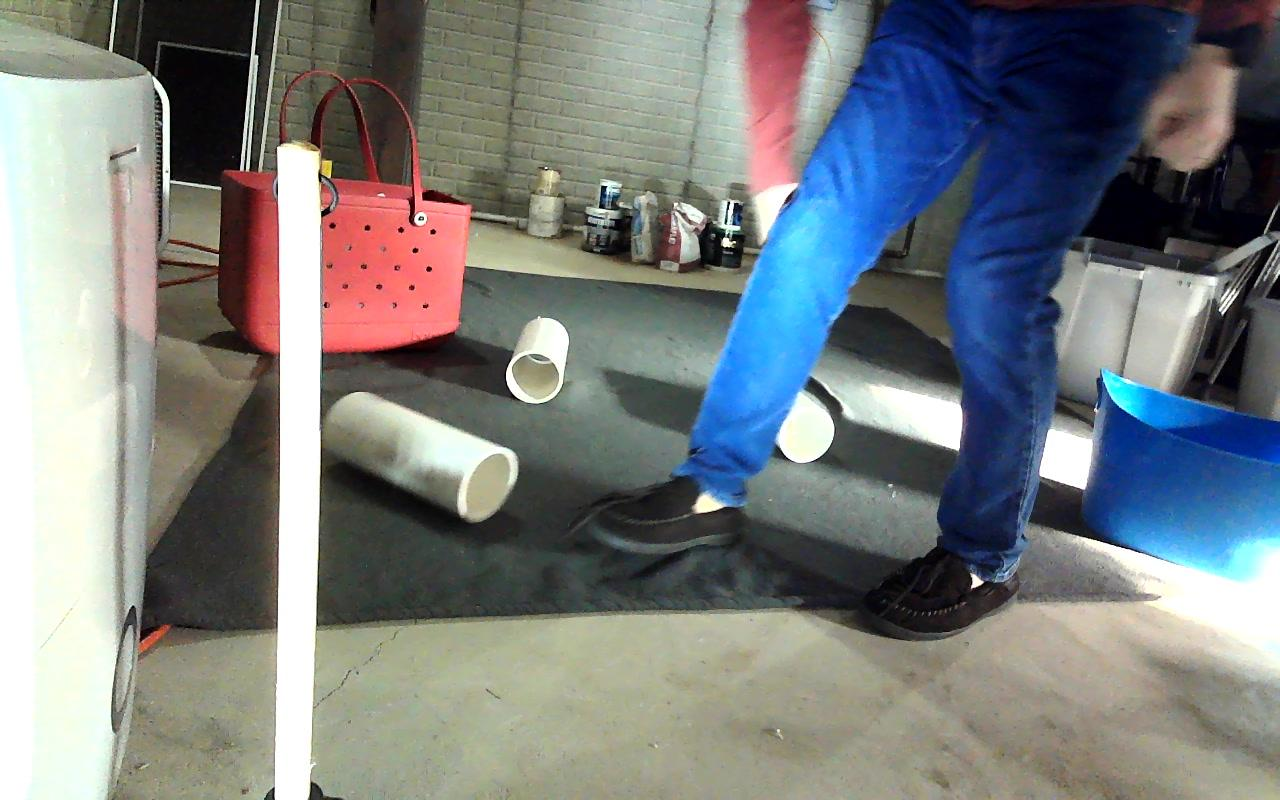coral: (325, 392, 518, 521), (505, 318, 568, 403), (778, 383, 836, 461)
